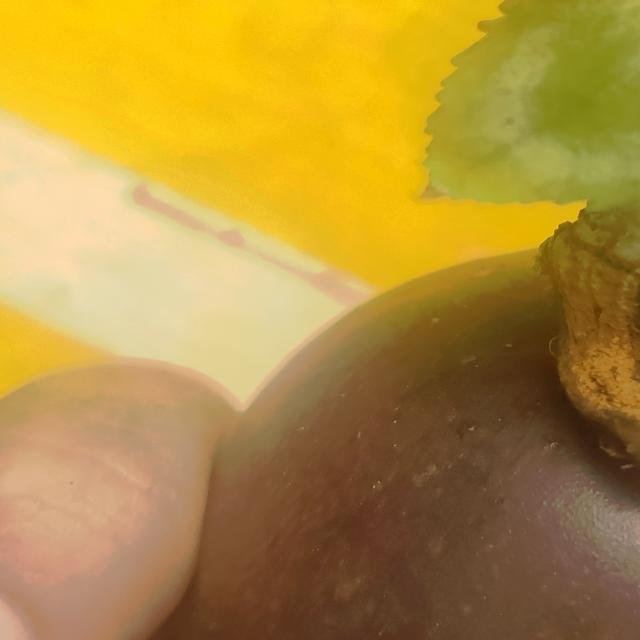Estado-5: (191, 68, 640, 640)
